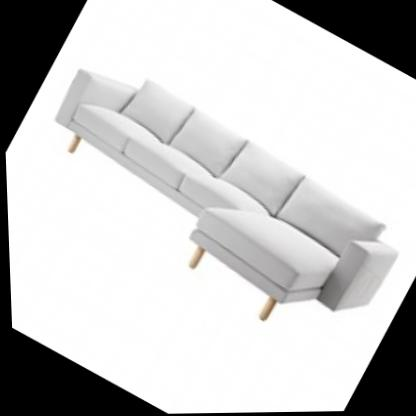Sofa: (1, 16, 416, 376)
